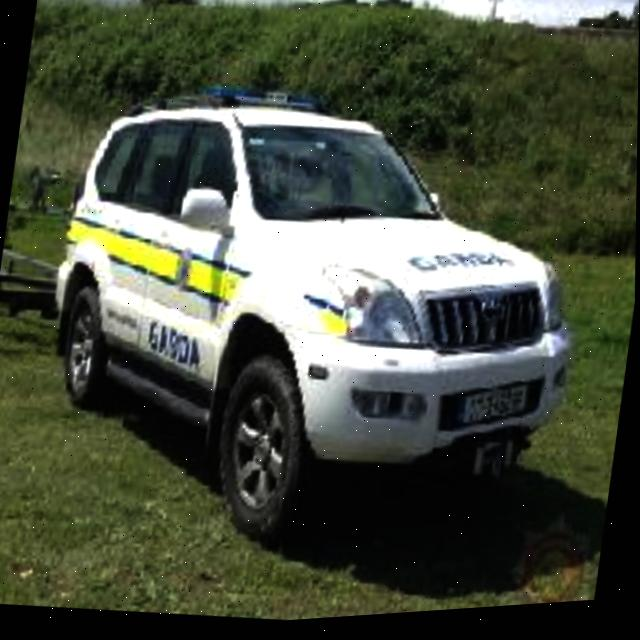emergency: (26, 54, 609, 579)
